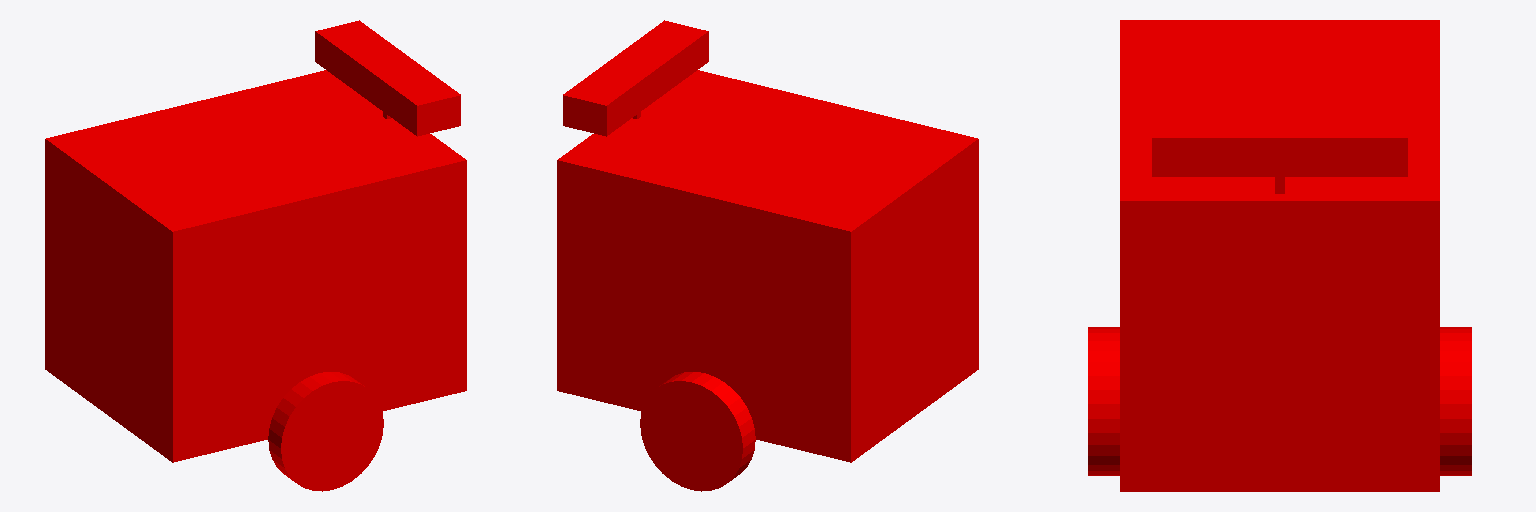
robot.urdf — box_bot:
<?xml version="1.0" ?>
<!-- =================================================================================== -->
<!-- |    This document was autogenerated by xacro from my_robot_urdf.xacro            | -->
<!-- |    EDITING THIS FILE BY HAND IS NOT RECOMMENDED                                 | -->
<!-- =================================================================================== -->
<robot name="box_bot">
  <!-- Добавления материалов и скриптов -->
  <!-- This file is not a robot in and of itself, it just contains some useful tags that could be included in any robot -->
  <!-- This file is not a robot in and of itself, it just contains some useful tags that could be included in any robot -->
  <!-- Specify some colours -->
  <material name="primary">
    <color rgba="1 0.3 0.1 1"/>
  </material>
  <material name="secondary">
    <color rgba="0.7 0.15 0.01 1"/>
  </material>
  <material name="base">
    <color rgba="0.1 0.1 0.1 1"/>
  </material>
  <!-- Добавления материалов и скриптов -->
  <!-- This file is not a robot in and of itself, it just contains some useful tags that could be included in any robot -->
  <link name="base_link"/>
  <link name="chassi">
    <inertial>
      <origin xyz="0.0 0.0 0.15"/>
      <mass value="0.1"/>
      <inertia ixx="0.0015" ixy="0.0" ixz="0.0" iyy="0.0020833333333333333" iyz="0.0" izz="0.0020833333333333333"/>
    </inertial>
    <visual name="">
      <origin rpy="0.0 0.0 0.0" xyz="0.0 0.0 0.15"/>
      <geometry>
        <box size="0.4 0.3 0.3"/>
      </geometry>
      <material name="">
        <color rgba="1.0 0.0 0.0 1.0"/>
        <texture filename=""/>
      </material>
    </visual>
    <collision>
      <origin rpy="0.0 0.0 0.0" xyz="0.0 0.0 0.15"/>
      <geometry>
        <box size="0.4 0.3 0.3"/>
      </geometry>
    </collision>
  </link>
  <joint name="fixed_join" type="fixed">
    <origin rpy="0.0 0.0 0.0" xyz="0.0 0.0 0.0"/>
    <parent link="base_link"/>
    <child link="chassi"/>
  </joint>
  <link name="wheel_left">
    <inertial>
      <origin xyz="0.0 0.015 0.0"/>
      <mass value="0.1"/>
      <inertia ixx="0.00013000000000000002" ixy="0.0" ixz="0.0" iyy="0.00013000000000000002" iyz="0.0" izz="0.00024500000000000005"/>
    </inertial>
    <visual name="">
      <origin rpy="1.5707963267948966 0.0 0.0" xyz="0.0 0.015 0.0"/>
      <geometry>
        <cylinder length="0.03" radius="0.07"/>
      </geometry>
      <material name="">
        <color rgba="1.0 0.0 0.0 1.0"/>
        <texture filename=""/>
      </material>
    </visual>
    <collision>
      <origin rpy="1.5707963267948966 0.0 0.0" xyz="0.0 0.015 0.0"/>
      <geometry>
        <cylinder length="0.03" radius="0.07"/>
      </geometry>
    </collision>
  </link>
  <joint name="join_wheel_left" type="continuous">
    <origin xyz="0.0 0.15 0.0"/>
    <parent link="chassi"/>
    <child link="wheel_left"/>
    <axis xyz="0.0 -1 0.0"/>
  </joint>
  <link name="wheel_right">
    <inertial>
      <origin xyz="0.0 0.015 0.0"/>
      <mass value="0.1"/>
      <inertia ixx="0.00013000000000000002" ixy="0.0" ixz="0.0" iyy="0.00013000000000000002" iyz="0.0" izz="0.00024500000000000005"/>
    </inertial>
    <visual name="">
      <origin rpy="1.5707963267948966 0.0 0.0" xyz="0.0 0.015 0.0"/>
      <geometry>
        <cylinder length="0.03" radius="0.07"/>
      </geometry>
      <material name="">
        <color rgba="1.0 0.0 0.0 1.0"/>
        <texture filename=""/>
      </material>
    </visual>
    <collision>
      <origin rpy="1.5707963267948966 0.0 0.0" xyz="0.0 0.015 0.0"/>
      <geometry>
        <cylinder length="0.03" radius="0.07"/>
      </geometry>
    </collision>
  </link>
  <joint name="join_wheel_right" type="continuous">
    <origin xyz="0.0 -0.18 0.0"/>
    <parent link="chassi"/>
    <child link="wheel_right"/>
    <axis xyz="0.0 -1 0.0"/>
  </joint>
  <!-- DEPTH CAMERA -->
  <link name="base_depth_camera">
    <inertial>
      <origin xyz="0.0 0.0 0.015"/>
      <mass value="0.1"/>
      <inertia ixx="0.0015" ixy="0.0" ixz="0.0" iyy="0.0020833333333333333" iyz="0.0" izz="0.0020833333333333333"/>
    </inertial>
    <visual name="">
      <origin rpy="0.0 0.0 0.0" xyz="0.0 0.0 0.015"/>
      <geometry>
        <box size="0.01 0.01 0.03"/>
      </geometry>
      <material name="">
        <color rgba="1.0 0.0 0.0 1.0"/>
        <texture filename=""/>
      </material>
    </visual>
    <collision>
      <origin rpy="0.0 0.0 0.0" xyz="0.0 0.0 0.015"/>
      <geometry>
        <box size="0.01 0.01 0.03"/>
      </geometry>
    </collision>
  </link>
  <joint name="base_depth_camera_joint" type="fixed">
    <origin rpy="0.0 0.0 0.0" xyz=" 0.18000000000000002 0.0 0.3"/>
    <parent link="chassi"/>
    <child link="base_depth_camera"/>
  </joint>
  <link name="depth_camera">
    <inertial>
      <origin rpy="0.0 0.0 0.0" xyz="0.0 0.0 0.02"/>
      <mass value="0.1"/>
      <inertia ixx="0.0015" ixy="0.0" ixz="0.0" iyy="0.0020833333333333333" iyz="0.0" izz="0.0020833333333333333"/>
    </inertial>
    <visual name="">
      <origin rpy="0.0 0.0 0.0" xyz="0.0 0.0 0.02"/>
      <geometry>
        <box size="0.06 0.24 0.04"/>
      </geometry>
      <material name="">
        <color rgba="1.0 0.0 0.0 1.0"/>
        <texture filename=""/>
      </material>
    </visual>
    <collision>
      <origin rpy="0.0 0.0 0.0" xyz="0.0 0.0 0.02"/>
      <geometry>
        <box size="0.06 0.24 0.04"/>
      </geometry>
    </collision>
  </link>
  <joint name="depth_camera_joint" type="fixed">
    <origin rpy="0.0 0.0 0.0" xyz="0.0 0.0 0.03"/>
    <parent link="base_depth_camera"/>
    <child link="depth_camera"/>
  </joint>
  <gazebo>
    <plugin filename="gz-sim-diff-drive-system" name="gz::sim::systems::DiffDrive">
      <!-- Wheel information -->
      <left_joint>join_wheel_left</left_joint>
      <right_joint>join_wheel_right</right_joint>
      <wheel_separation>0.3</wheel_separation>
      <wheel_radius>0.07</wheel_radius>
      <!-- Limits -->
      <max_linear_acceleration>10</max_linear_acceleration>
      <!-- Output -->
      <odom_topic>odom</odom_topic>
      <!-- OLD from <odometry_topic> -->
      <frame_id>odom</frame_id>
      <!-- OLD from <odometry_frame> -->
      <child_frame_id>base_link</child_frame_id>
      <!-- OLD from <robot_base_frame> -->
      <odom_publisher_frequency>30</odom_publisher_frequency>
      <!-- OLD from <update_rate>-->
      <!-- Short topic name for tf output -->
      <tf_topic>/tf</tf_topic>
      <topic>cmd_vel</topic>
    </plugin>
    <plugin filename="gz-sim-joint-state-publisher-system" name="gz::sim::systems::JointStatePublisher">
      <topic>joint_states</topic>
      <!--from <ros><remapping> -->
      <joint_name>join_wheel_left</joint_name>
      <joint_name>join_wheel_right</joint_name>
    </plugin>
  </gazebo>
  <gazebo>
    <plugin filename="ignition-gazebo-sensors-system" name="gz::sim::systems::Sensors">
      <render_engine>ogre2</render_engine>
    </plugin>
  </gazebo>
  <gazebo reference="depth_camera">
    <sensor name="depth_camera" type="depth_camera">
      <update_rate>10</update_rate>
      <topic>depth_camera</topic>
      <camera>
        <horizontal_fov>1.05</horizontal_fov>
        <image>
          <width>256</width>
          <height>256</height>
          <format>R_FLOAT32</format>
        </image>
        <clip>
          <near>0.1</near>
          <far>10.0</far>
        </clip>
      </camera>
    </sensor>
  </gazebo>
</robot>

--- Render facts (derived) ---
Views: 3 orthographic renders of the robot side by side, from view 1: azimuth 30°, elevation 25°; view 2: azimuth 150°, elevation 25°; view 3: azimuth 270°, elevation 25°.
Model box_bot with 6 links and 5 joints (2 continuous, 3 fixed), rooted at base_link, posed all joints at 0.
Links seen in each view (by area): view 1: chassi, wheel_right, depth_camera; view 2: chassi, wheel_left, depth_camera; view 3: chassi, depth_camera, wheel_left, wheel_right.
Boxes of the visible links, x1=… form: chassi: x1=45, y1=70, x2=466, y2=462; wheel_right: x1=268, y1=372, x2=383, y2=491; depth_camera: x1=315, y1=20, x2=460, y2=136; chassi: x1=557, y1=70, x2=978, y2=462; wheel_left: x1=640, y1=372, x2=755, y2=491; depth_camera: x1=563, y1=20, x2=708, y2=136; chassi: x1=1120, y1=20, x2=1439, y2=491; depth_camera: x1=1152, y1=111, x2=1407, y2=176; wheel_left: x1=1440, y1=327, x2=1471, y2=475; wheel_right: x1=1088, y1=327, x2=1119, y2=475.
Size in the robot's own frame: 0.41 by 0.36 by 0.44 metres.
Geometry: primitives only (box / cylinder / sphere), no mesh files.